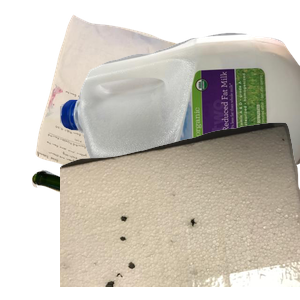glass: (29, 167, 241, 300)
paper: (33, 12, 214, 192)
plastic: (60, 30, 300, 210)
trash: (60, 120, 300, 300)
